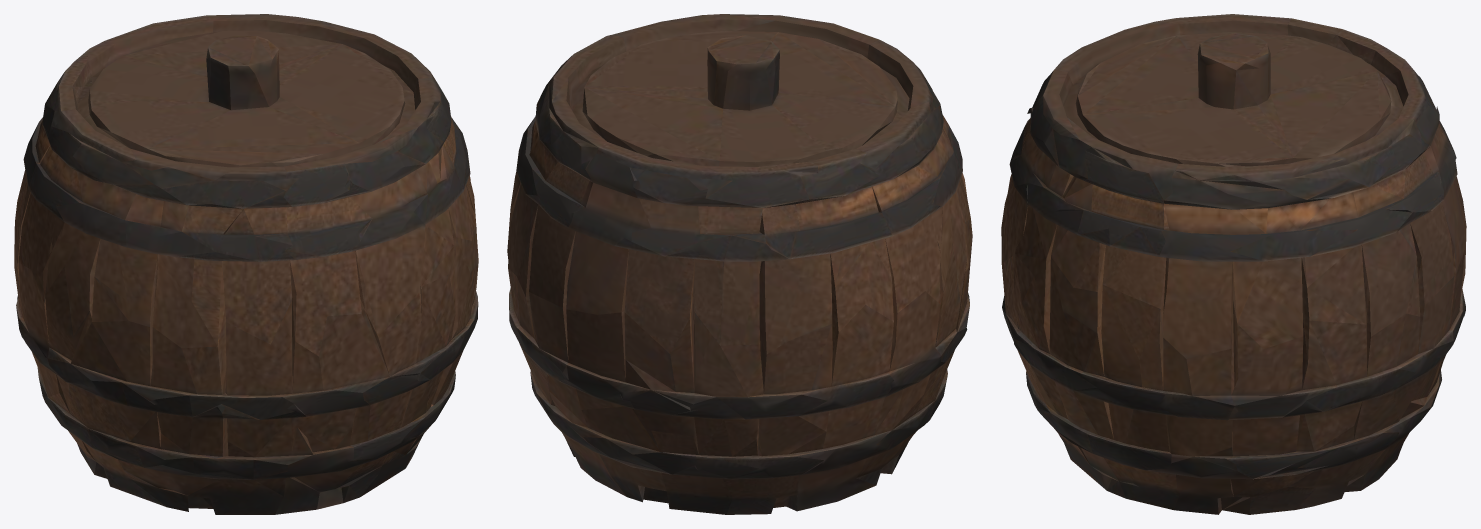
File: floating_barrel.glb
The picture shows the model from 3 angles, left to right: view 1: azimuth 30°, elevation 25°; view 2: azimuth 150°, elevation 25°; view 3: azimuth 270°, elevation 25°; orthographic projection.
Bounding box in the file's own units: 1.9 × 1.78 × 1.9.
Materials: 1 (1 with a texture image).
